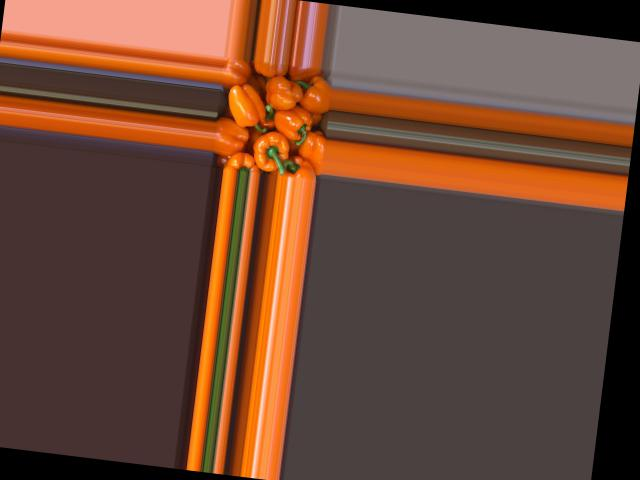bell_pepper: (278, 63, 324, 92)
